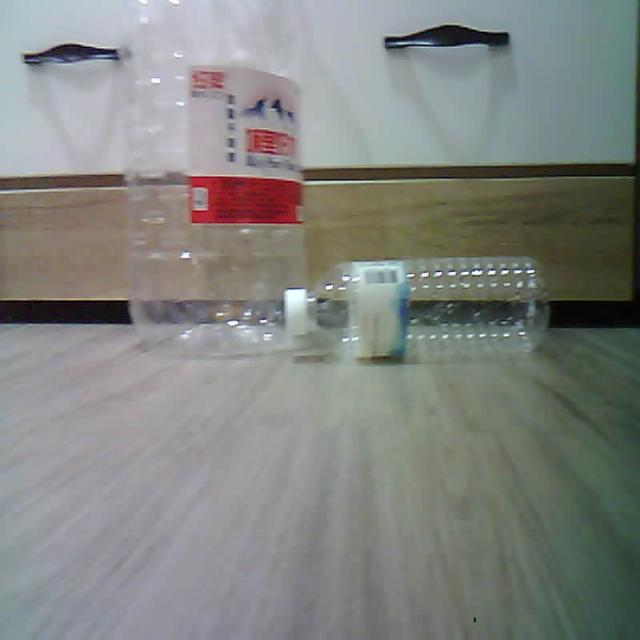bottle: (126, 0, 306, 354), (294, 257, 550, 362)
